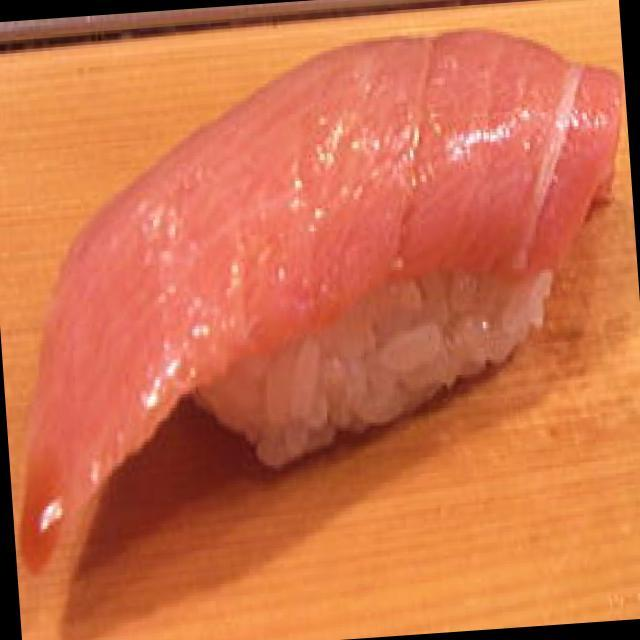Sushi: (4, 19, 640, 640)
